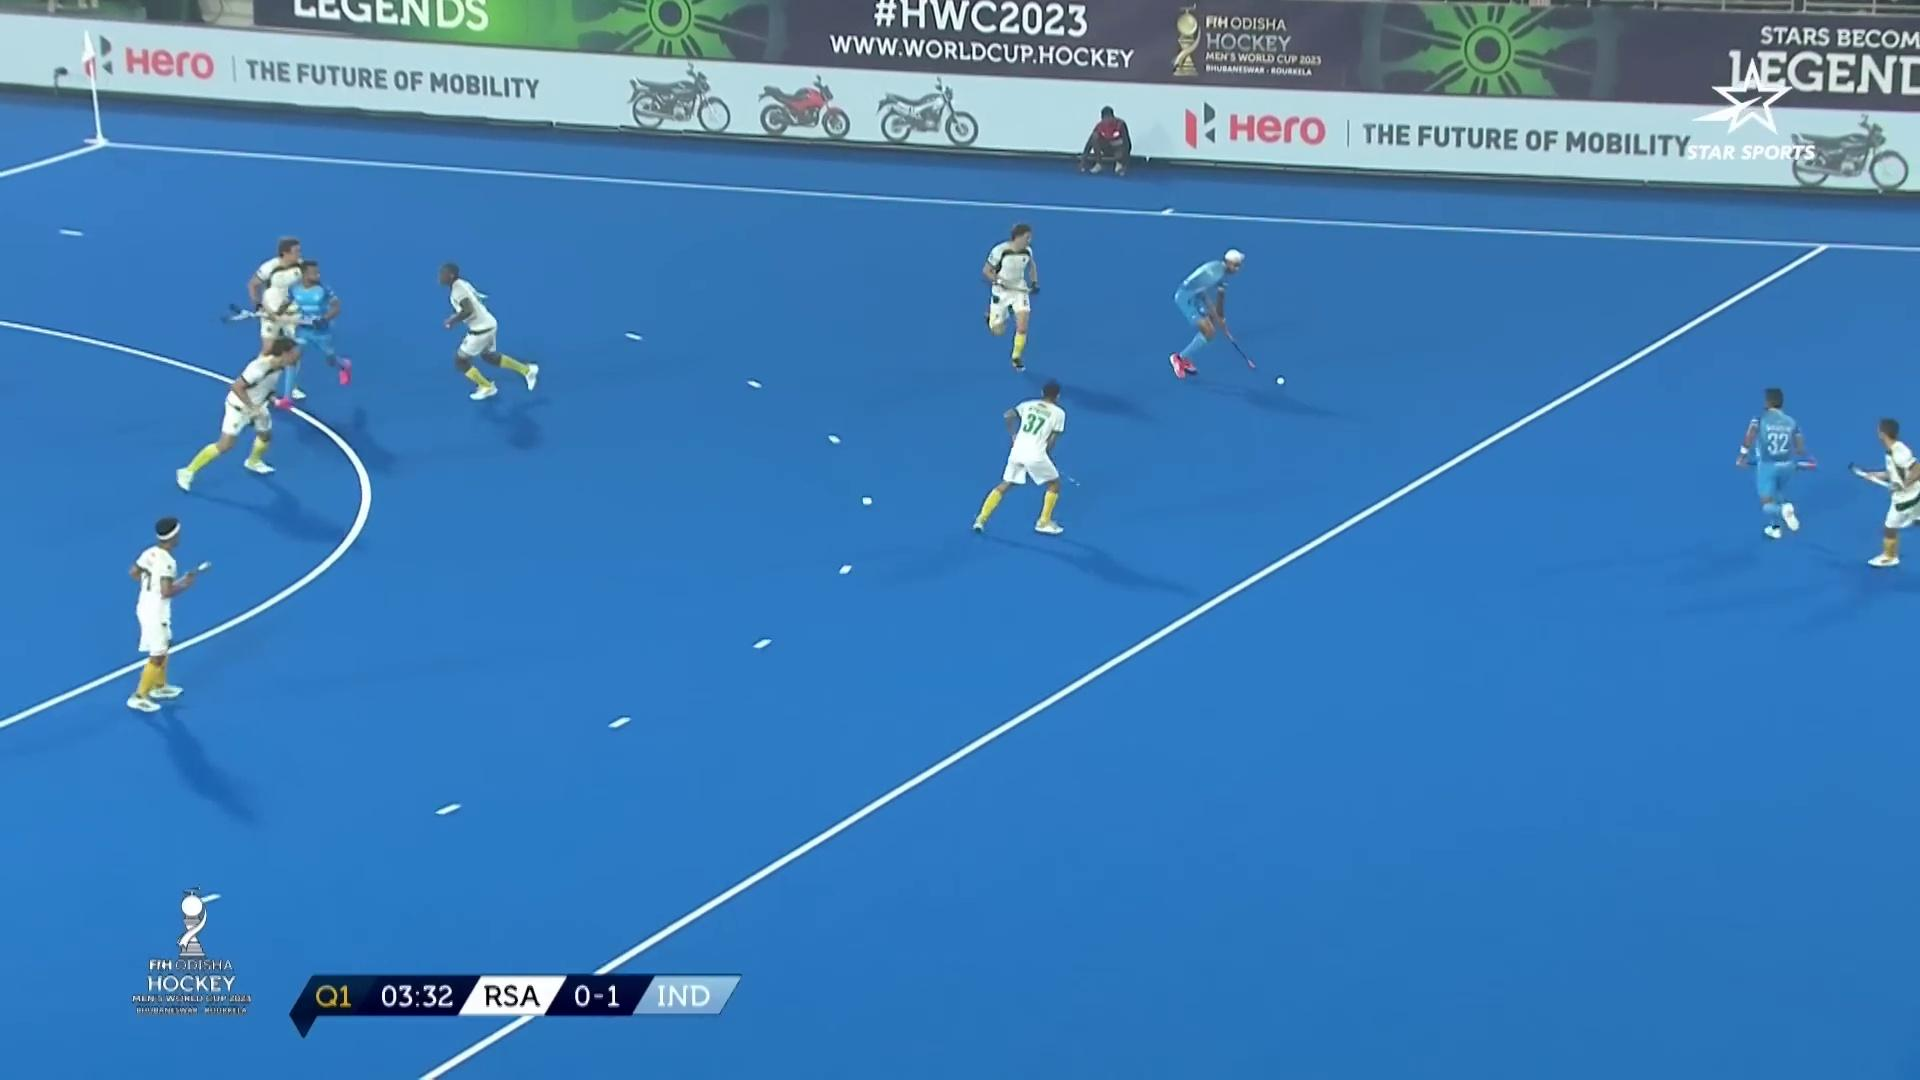ball: (1261, 364, 1303, 396)
